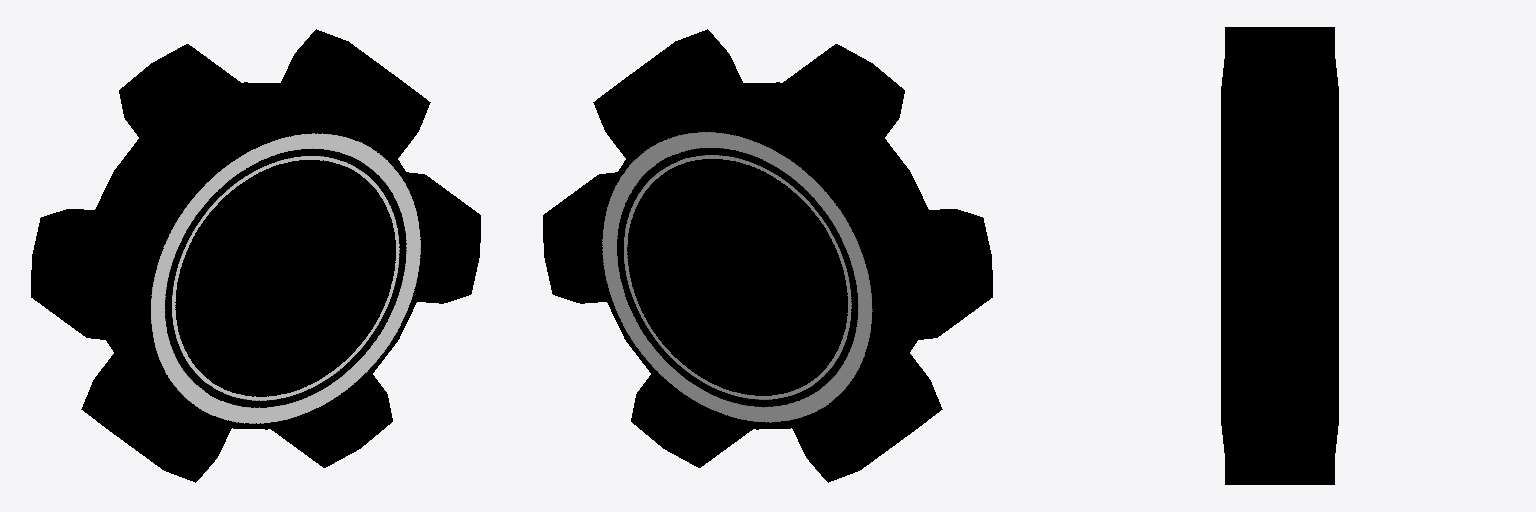
The picture shows the model from 3 angles: view 1: azimuth 30°, elevation 25°; view 2: azimuth 150°, elevation 25°; view 3: azimuth 270°, elevation 25°; orthographic projection.
Visible parts, largest first — view 1: Gear_S; view 2: Gear_S; view 3: Gear_S.
Boxes of the visible parts, <box> form: Gear_S: <box>31,29,480,482</box>; Gear_S: <box>543,29,992,482</box>; Gear_S: <box>1221,27,1338,484</box>.
Bounding box in the file's own units: 3.47 × 3.4 × 0.9.
Materials: 1 (1 with a texture image).